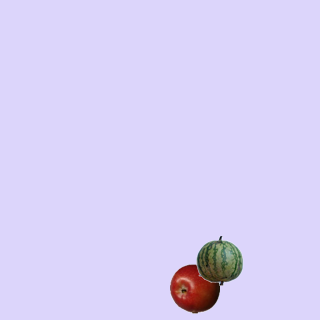Apple Braeburn: (169, 263, 219, 313)
Watermelon: (194, 235, 244, 285)
